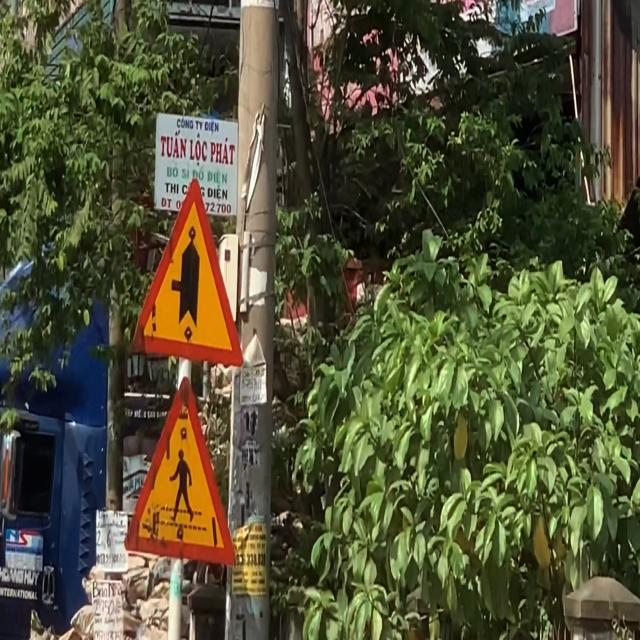Giao voi duong khong uu tien: (130, 174, 246, 369)
Nguoi di bo cat ngang: (122, 373, 236, 568)
